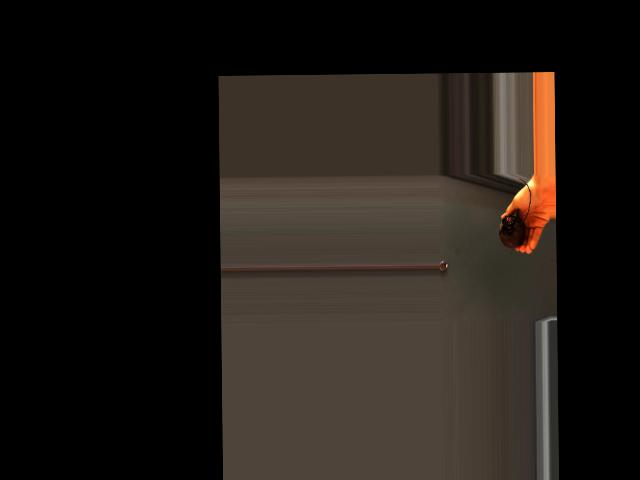beet: (499, 179, 532, 257)
